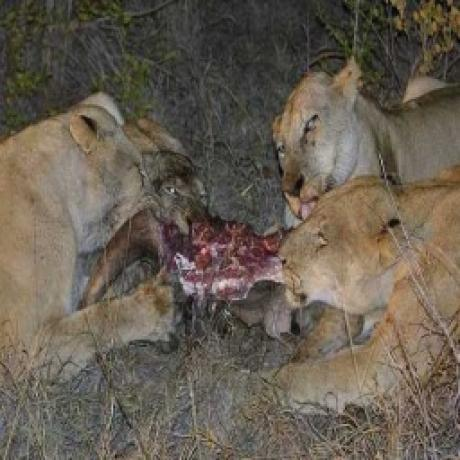Lion: (271, 176, 460, 395), (267, 55, 460, 219)
